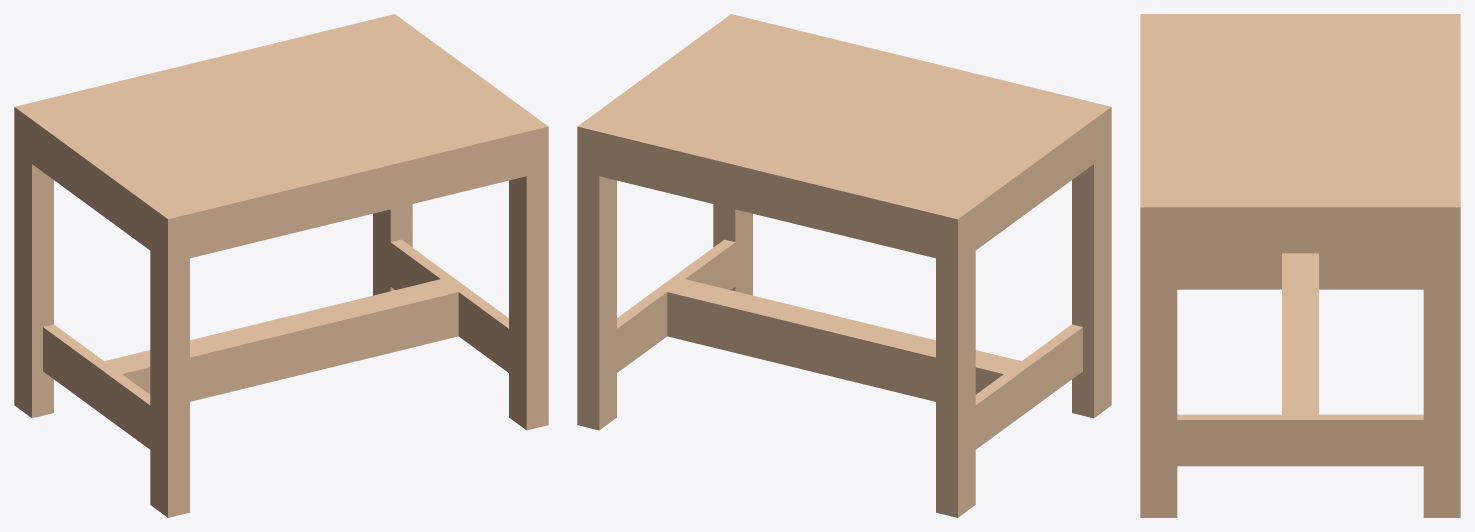
The model's file is mesa.b72f11fc.glb.
3 views of the same model, side by side, from view 1: azimuth 30°, elevation 25°; view 2: azimuth 150°, elevation 25°; view 3: azimuth 270°, elevation 25° (orthographic). The views are drawn at different scales.
Visible parts, largest first — view 1: table(Clone); view 2: table(Clone); view 3: table(Clone).
Part boxes in pixels (bbox=[...]): table(Clone): bbox=[14, 14, 548, 517]; table(Clone): bbox=[577, 14, 1111, 517]; table(Clone): bbox=[1140, 14, 1460, 517].
Bounding box in the file's own units: 1 × 0.75 × 0.7.
